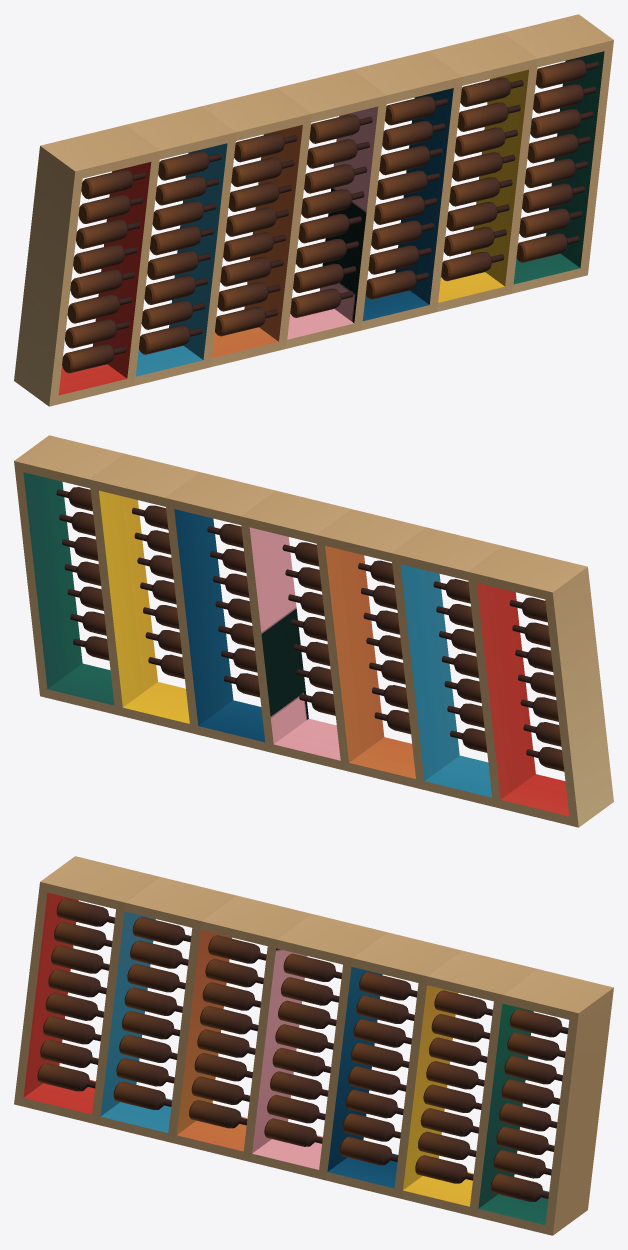
File: Bottellero.fbx
3 views of the same model, one above another, from view 1: azimuth 30°, elevation 25°; view 2: azimuth 150°, elevation 25°; view 3: azimuth 330°, elevation 25° (orthographic).
Parts seen in each view (by area): view 1: Box007; view 2: Box007; view 3: Box007.
Boxes of the visible parts, box(x1,y1,x2,y2) form: Box007: box(14, 14, 613, 406); Box007: box(14, 435, 613, 827); Box007: box(14, 856, 613, 1235).
Bounding box in the file's own units: 516 × 200 × 55.68.
